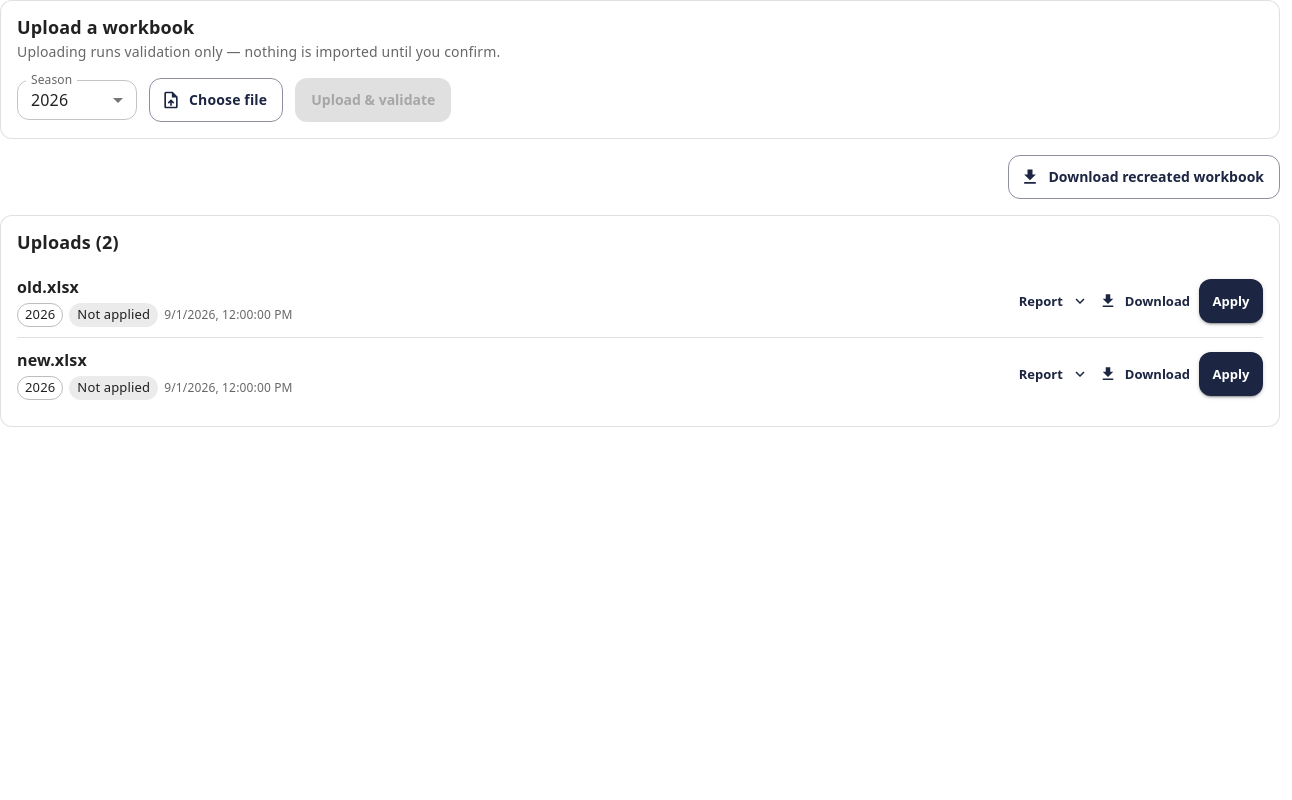
it: CommissionerWorkbooks › shows each workbook its own report, not just the newest one
The image size is (1292, 800).
Check: the text "old.xlsx" is shown, box [17,276,79,298]
What coordinates should you click on to do the following:
click the button "Report" in the row of "old.xlsx"
I would click on:
 (1053, 301)
Its box is [1014,279,1092,323].
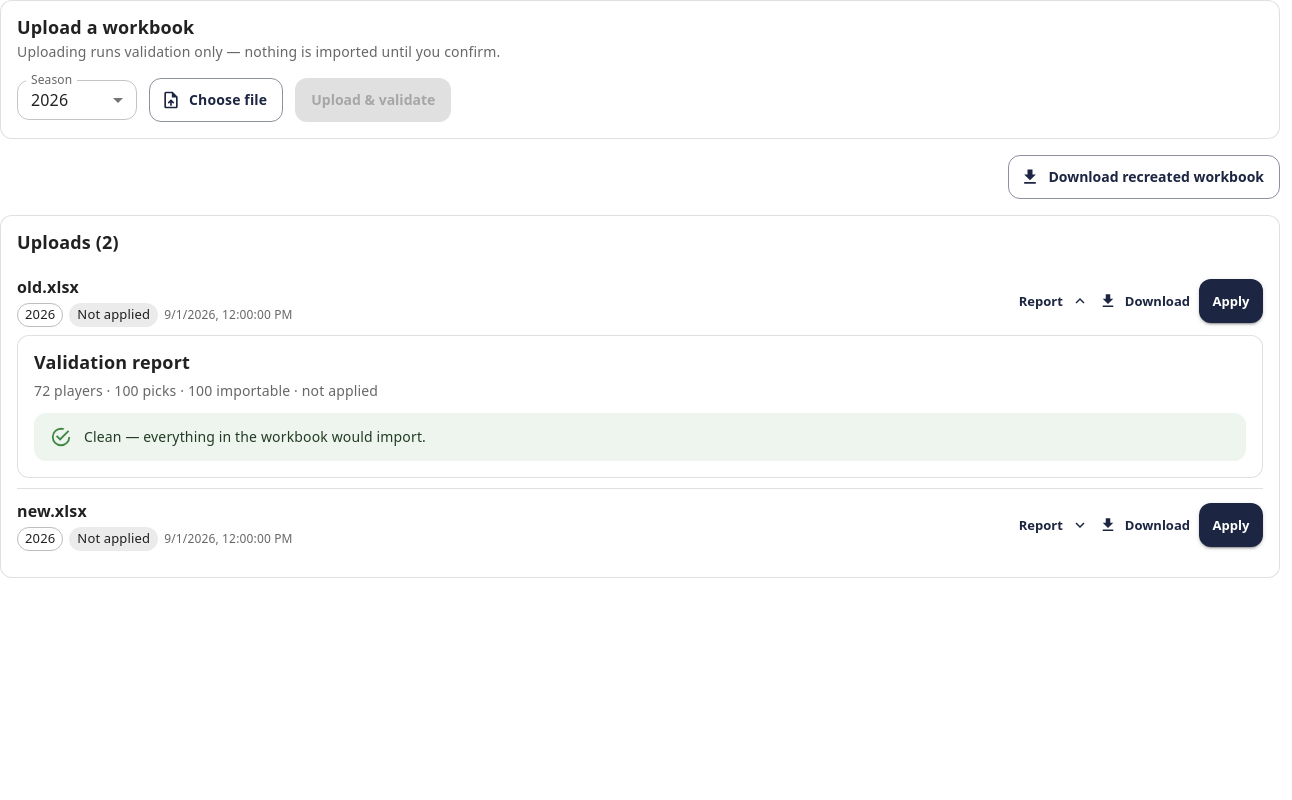
Check: the heading "Validation report" is shown, box [34,350,190,374]
Check: the text "Clean — everything in the workbook would import." is shown, box [84,427,426,446]
